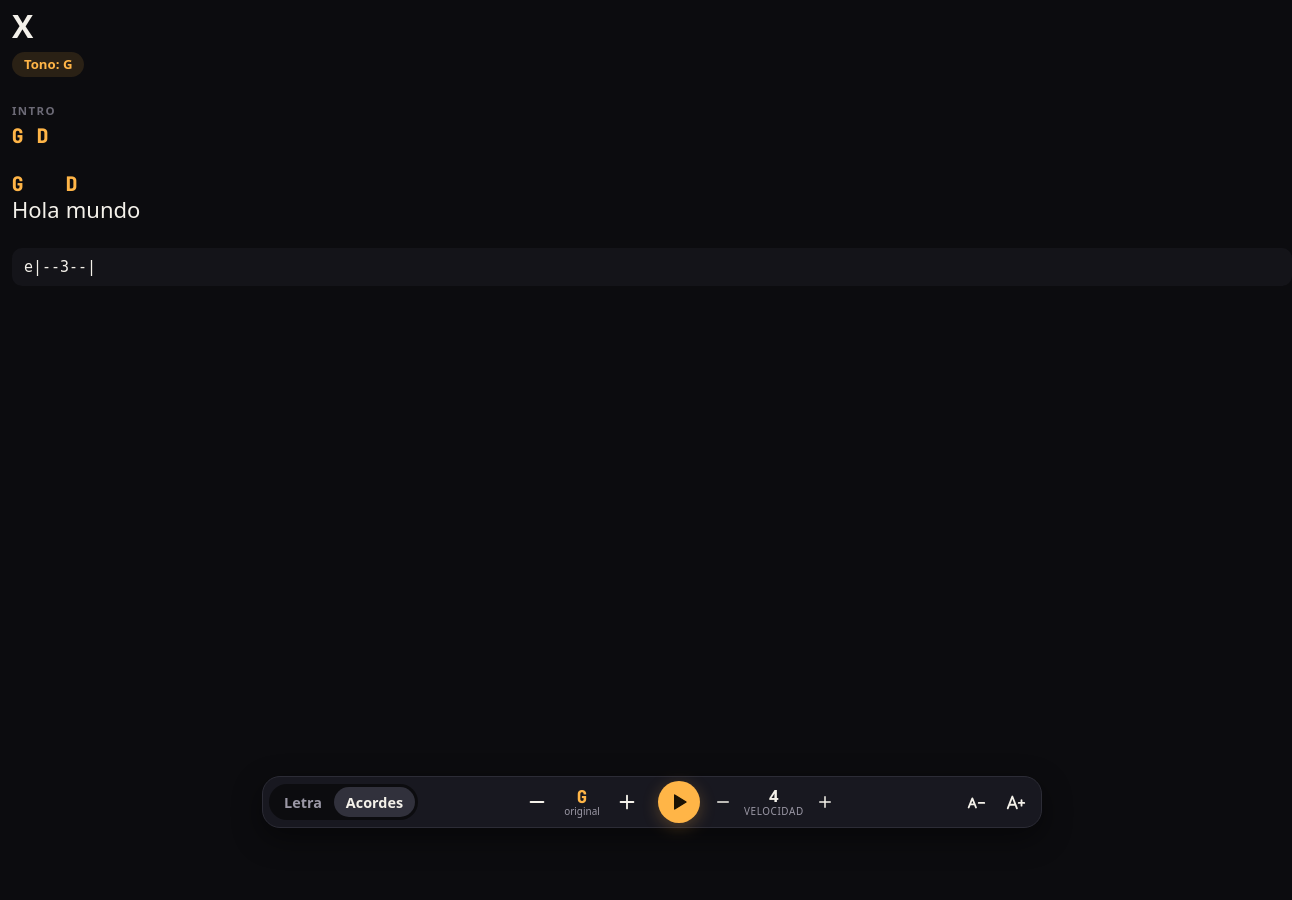
Test case: SongPanel › Letra hides chords, chord-only sections and tabs
This screenshot has width=1292, height=900.
Expected: the text "Intro" is shown, [12,104,56,119]
What coordinates should you click on to do the following:
click the button "Letra"
I would click on:
 (303, 802)
Its box is [272,787,334,817].
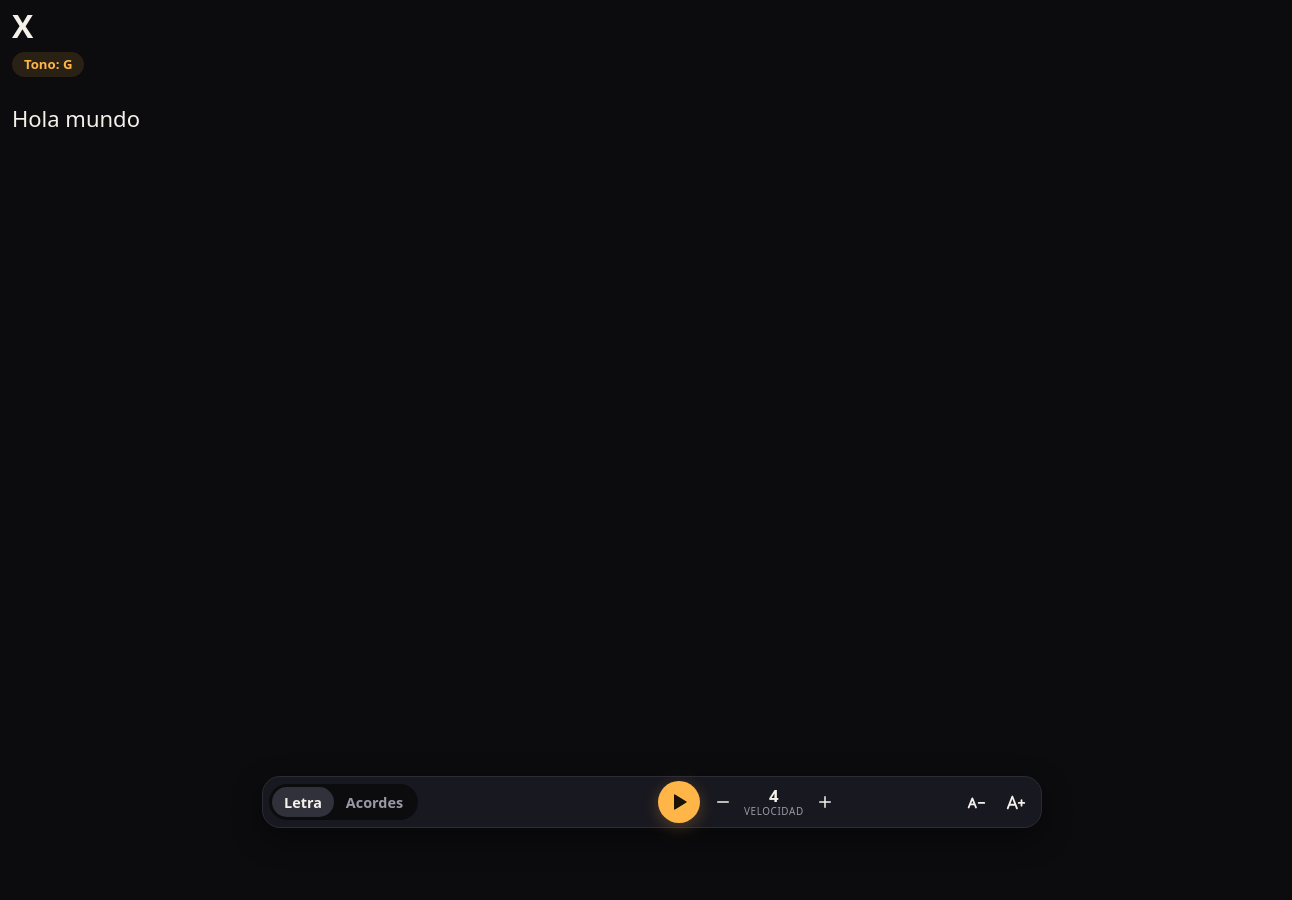
Expected: the text "Hola mundo" is shown, [12,103,140,133]
Expected: the text "Intro" is gone
Expected: the button "Subir medio tono" is gone
What coordinates should you click on to do the following:
click the button "Acordes"
I would click on:
 (374, 802)
Its box is [334,787,415,817].
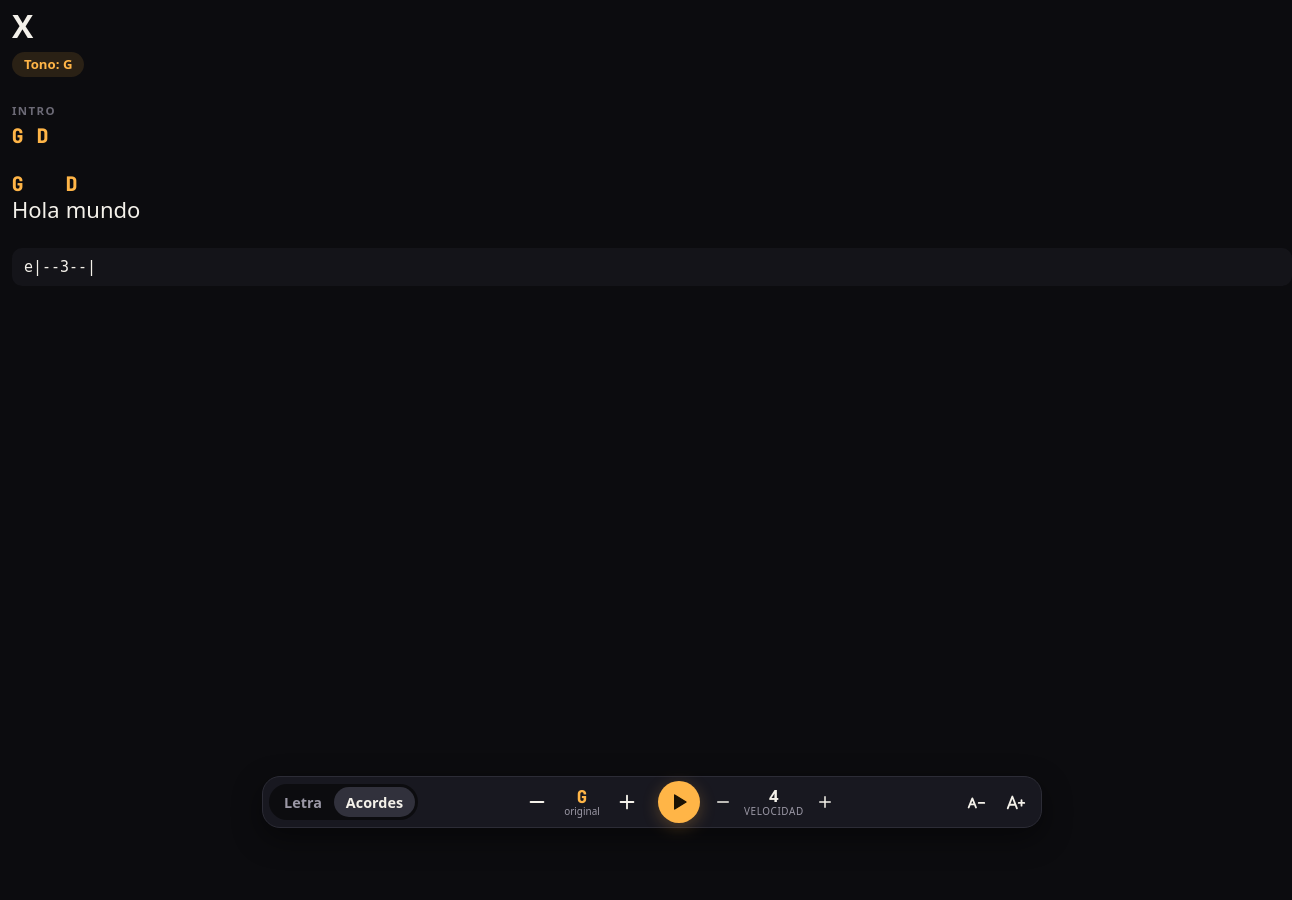
Expected: the text "D" is shown 2 times, [37,122,48,147]; [66,170,77,195]
Expected: the text "Intro" is shown, [12,104,56,119]
